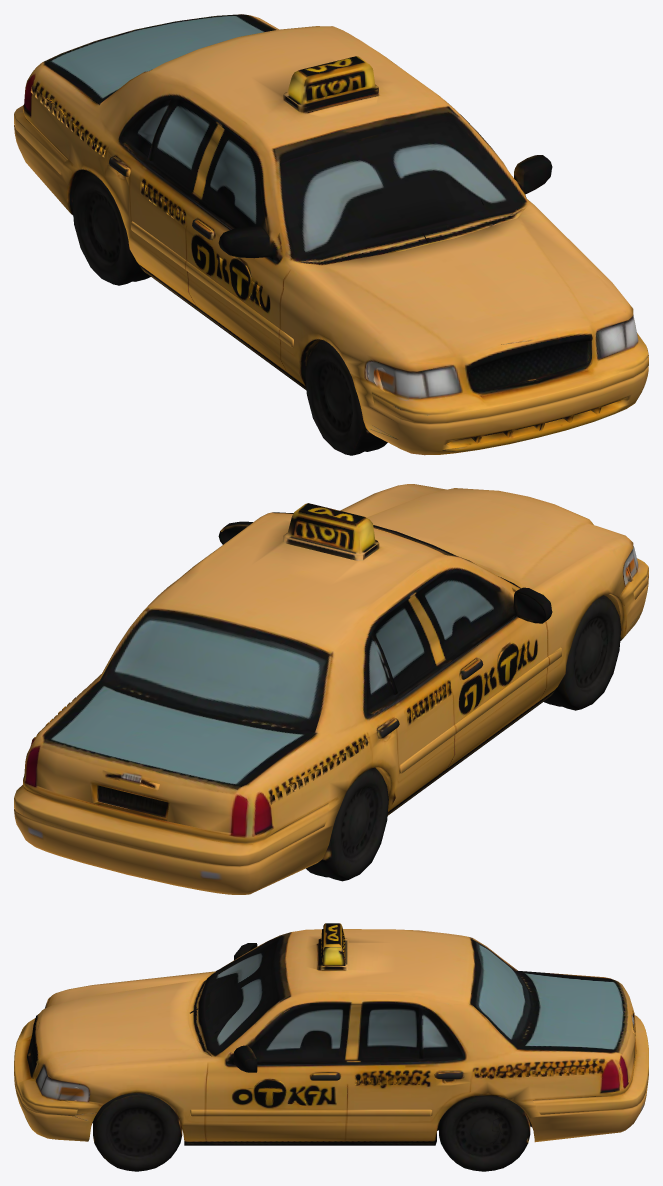
File: a_taxi_cab_88be8bf6_v4.glb
3 renders of one model, top to bottom at view 1: azimuth 30°, elevation 25°; view 2: azimuth 150°, elevation 25°; view 3: azimuth 270°, elevation 25°, orthographic. The views are drawn at different scales.
Visible parts, largest first — view 1: material; view 2: material; view 3: material.
Part boxes in pixels (x1,y1,x2,y2): material: [14, 14, 648, 455]; material: [14, 484, 648, 894]; material: [14, 923, 648, 1171].
Bounding box in the file's own units: 0.8456 × 0.6366 × 1.9.
Materials: 1 (1 with a texture image).
